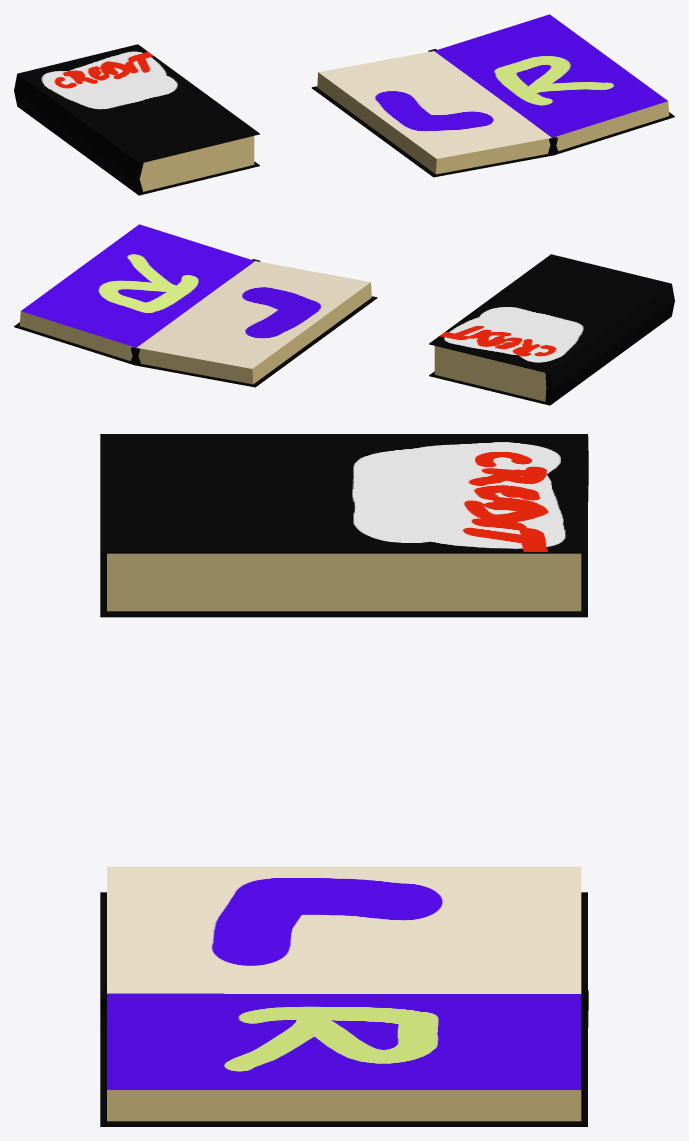
Rendered from bookopen.fbx.
3 renders of one model, top to bottom at view 1: azimuth 30°, elevation 25°; view 2: azimuth 150°, elevation 25°; view 3: azimuth 270°, elevation 25°, orthographic. The views are drawn at different scales.
Visible parts, largest first — view 1: buch, left, rechts; view 2: buch, left, rechts; view 3: buch, rechts, left.
Boxes of the visible parts, box(x1,y1,x2,y2) form: buch: box(14, 44, 259, 195); left: box(311, 49, 557, 177); rechts: box(428, 14, 674, 155); buch: box(429, 254, 674, 405); left: box(131, 259, 377, 387); rechts: box(14, 224, 260, 365); buch: box(100, 434, 588, 617); rechts: box(100, 990, 588, 1126); left: box(100, 866, 588, 1010).
Size of the model in its own units: 3499 by 581 by 1374.
